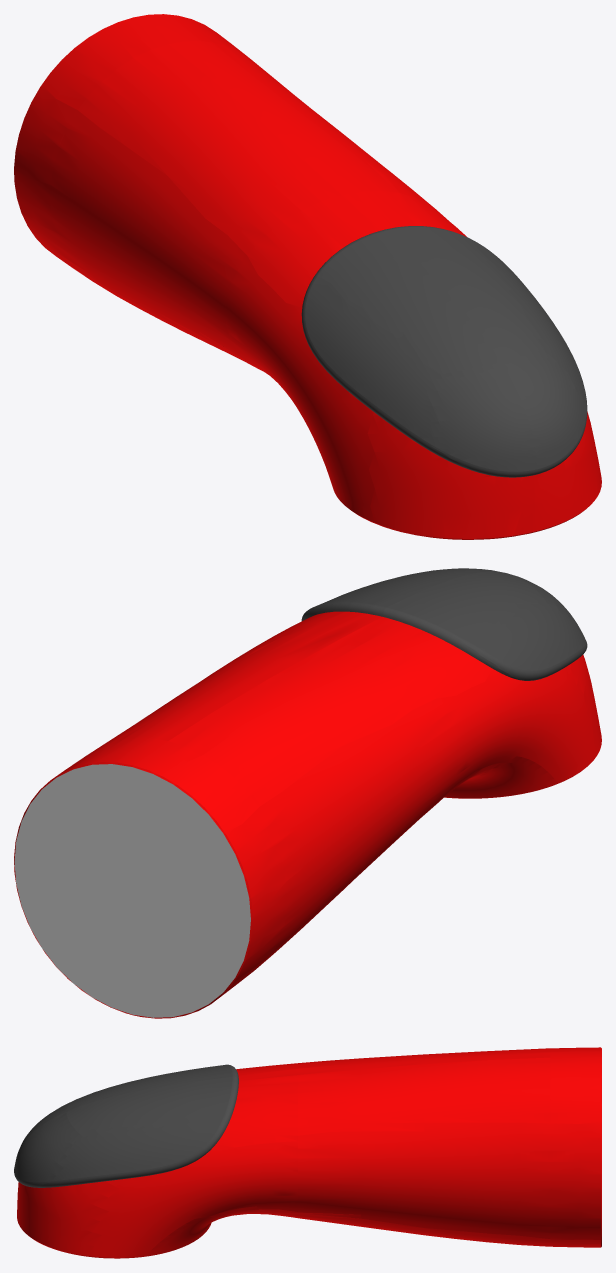
3 views of the same model, one above another, from view 1: azimuth 30°, elevation 25°; view 2: azimuth 150°, elevation 25°; view 3: azimuth 270°, elevation 25° (orthographic). The views are drawn at different scales.
Visible parts, largest first — view 1: _3DGeom_29_geo_0.018, _3DGeom_30_geo_1.018; view 2: _3DGeom_29_geo_0.018, _3DGeom_31_geo_2.012, _3DGeom_30_geo_1.018; view 3: _3DGeom_29_geo_0.018, _3DGeom_30_geo_1.018.
Part boxes in pixels (bbox=[...]): _3DGeom_29_geo_0.018: bbox=[14, 14, 601, 539]; _3DGeom_30_geo_1.018: bbox=[301, 226, 587, 477]; _3DGeom_29_geo_0.018: bbox=[14, 611, 601, 1018]; _3DGeom_31_geo_2.012: bbox=[14, 764, 250, 1017]; _3DGeom_30_geo_1.018: bbox=[301, 568, 587, 680]; _3DGeom_29_geo_0.018: bbox=[17, 1047, 601, 1258]; _3DGeom_30_geo_1.018: bbox=[14, 1064, 238, 1187].
Bounding box in the file's own units: 0.1065 × 0.1065 × 0.3125.
